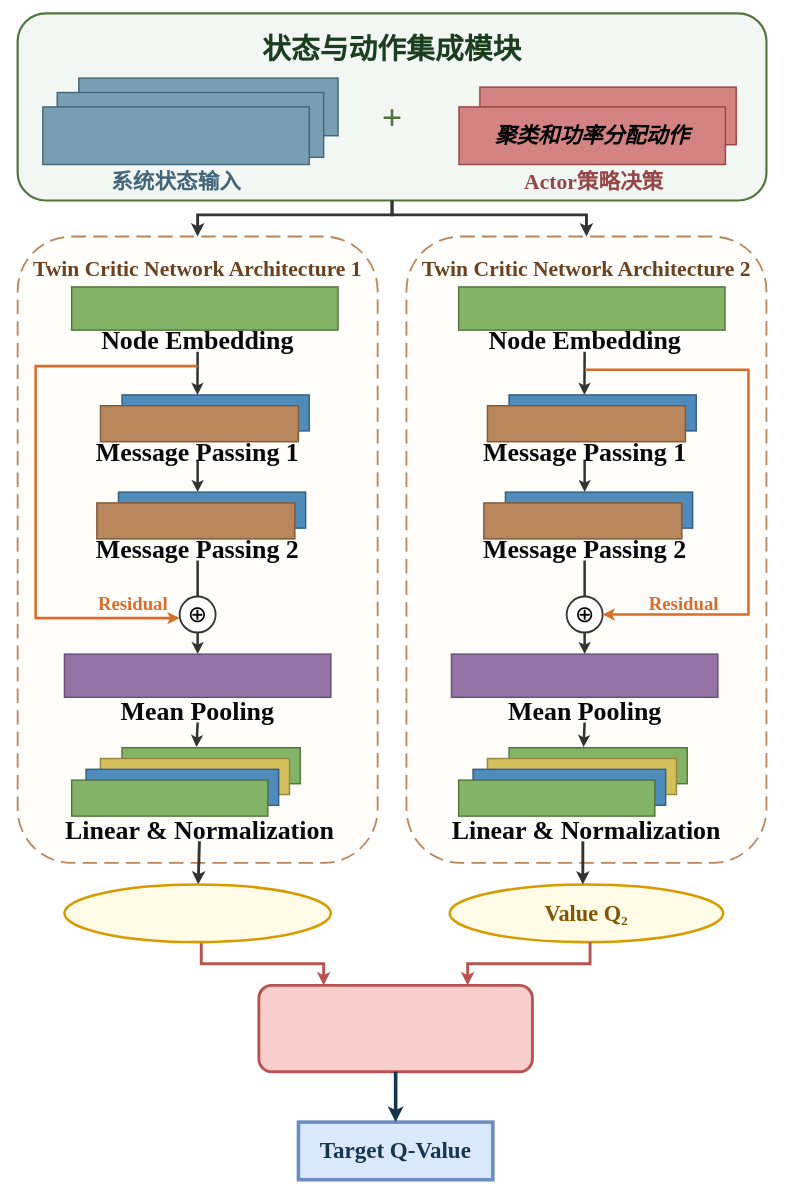
The diagram is 786 pixels wide and 1194 high, and some of its shapes have lost their labels. The shapes that lost their labels are listed below. From the top down, each one's centre as x and y in pixels, then its label:
At [176,135]: "信道增益与信干噪比矩阵".
At [197,913]: "Value Q₁".
At [395,1028]: "Value Minimization Operator min ( Value Q₁ , Value Q₂ )".
